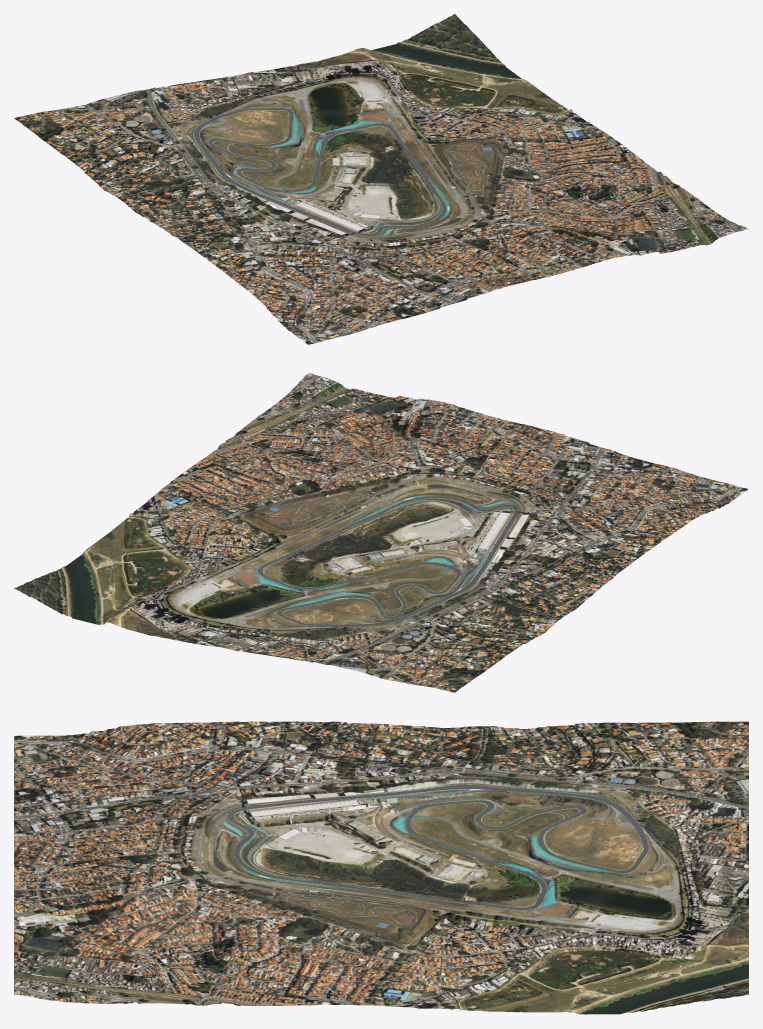
The model's file is interlagos_pista.glb.
3 renders of one model, top to bottom at view 1: azimuth 30°, elevation 25°; view 2: azimuth 150°, elevation 25°; view 3: azimuth 270°, elevation 25°, orthographic. The views are drawn at different scales.
Visible parts, largest first — view 1: Terreno_LiDAR_grade_4m, Circuito_4309m_colisao; view 2: Terreno_LiDAR_grade_4m, Circuito_4309m_colisao; view 3: Terreno_LiDAR_grade_4m, Circuito_4309m_colisao.
Part boxes in pixels (x1=…): Terreno_LiDAR_grade_4m: x1=14, y1=14, x2=748, y2=344; Circuito_4309m_colisao: x1=194, y1=108, x2=446, y2=235; Terreno_LiDAR_grade_4m: x1=14, y1=373, x2=748, y2=692; Circuito_4309m_colisao: x1=257, y1=496, x2=518, y2=626; Terreno_LiDAR_grade_4m: x1=14, y1=721, x2=748, y2=1014; Circuito_4309m_colisao: x1=227, y1=784, x2=648, y2=909.
Bounding box in the file's own units: 1604 × 72.55 × 1852.
Materials: 7 (1 with a texture image).
